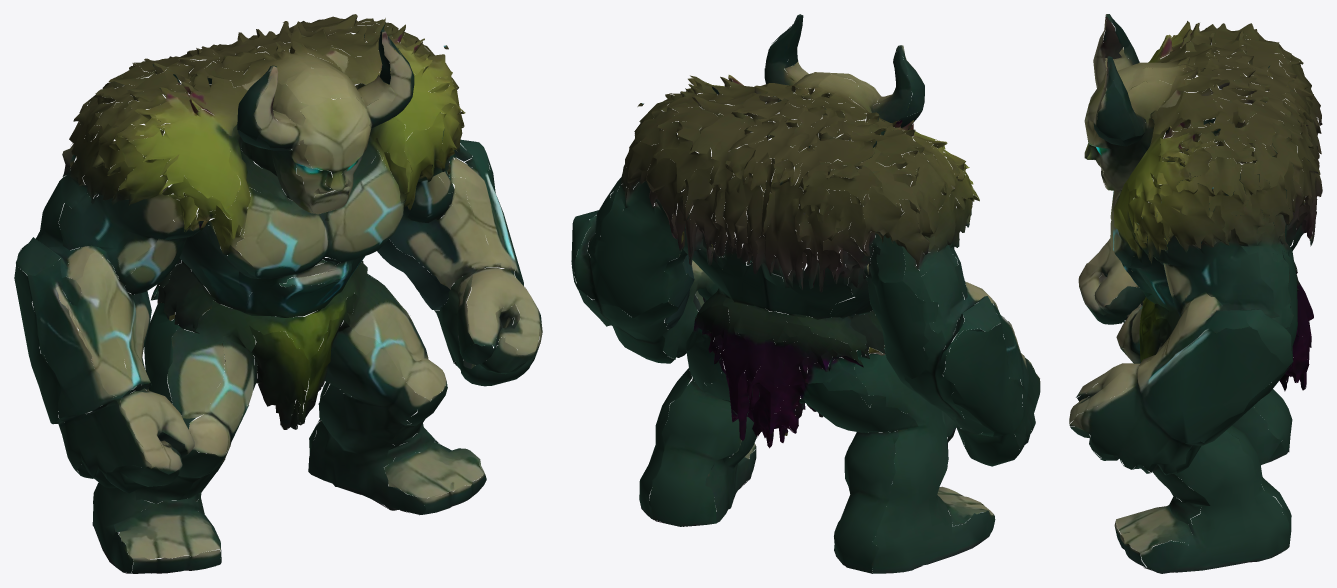
File: gate-warden.glb
3 renders of one model, left to right at view 1: azimuth 30°, elevation 25°; view 2: azimuth 150°, elevation 25°; view 3: azimuth 270°, elevation 25°, orthographic. The views are drawn at different scales.
Parts seen in each view (by area): view 1: tmpr4fz8v3z.ply; view 2: tmpr4fz8v3z.ply; view 3: tmpr4fz8v3z.ply.
Boxes of the visible parts, bbox=[...] form: tmpr4fz8v3z.ply: bbox=[14, 14, 542, 573]; tmpr4fz8v3z.ply: bbox=[571, 14, 1040, 573]; tmpr4fz8v3z.ply: bbox=[1069, 14, 1322, 573].
Bounding box in the file's own units: 0.9482 × 0.988 × 0.4902.
Materials: 1 (1 with a texture image).
